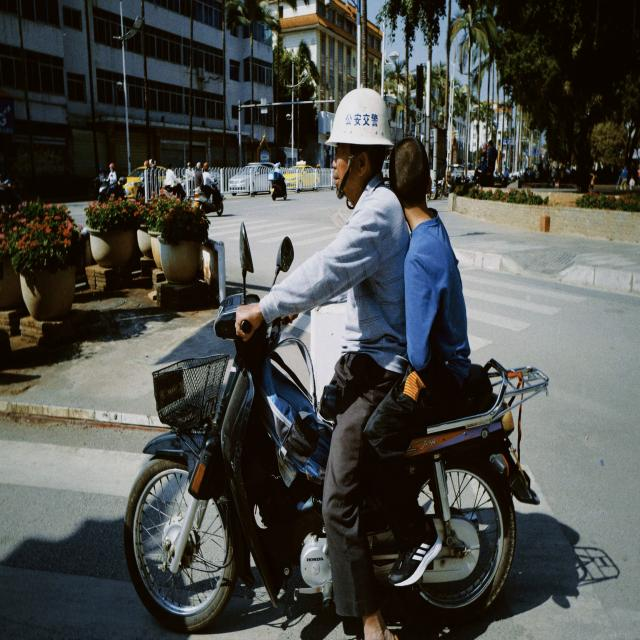adult: (236, 138, 407, 640), (385, 131, 471, 588), (195, 161, 218, 207), (165, 162, 184, 203)
